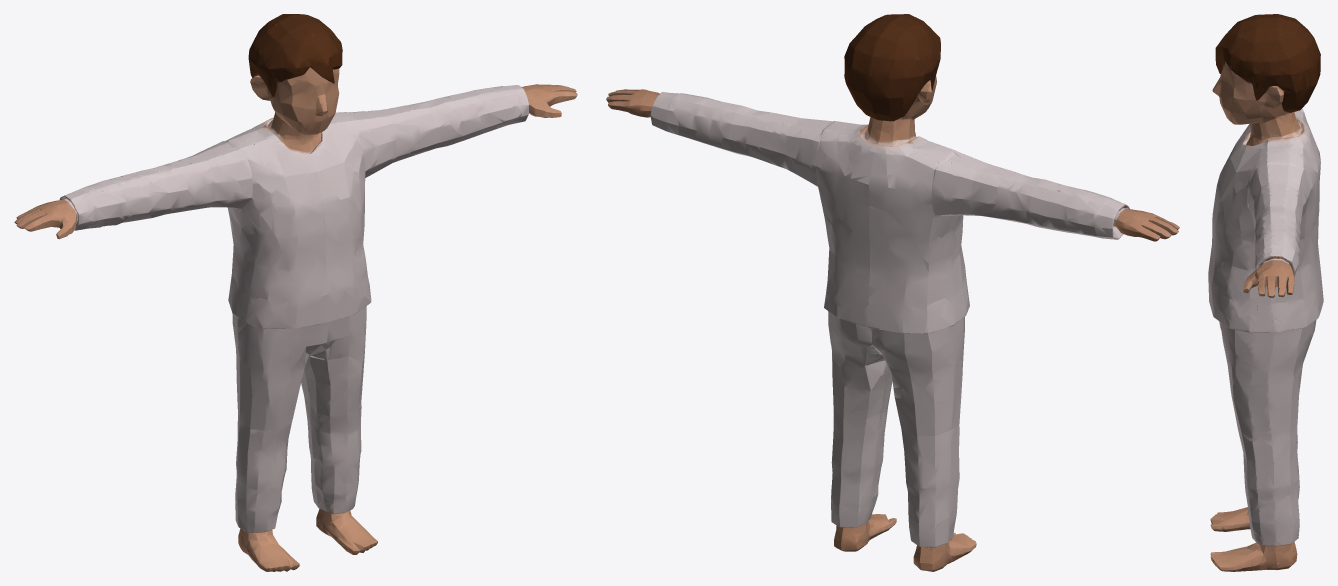
3 views of the same model, side by side, from view 1: azimuth 30°, elevation 25°; view 2: azimuth 150°, elevation 25°; view 3: azimuth 270°, elevation 25° (orthographic).
Visible parts, largest first — view 1: mesh_node; view 2: mesh_node; view 3: mesh_node.
Part boxes in pixels (<box>): mesh_node: <box>14,14,577,571</box>; mesh_node: <box>606,14,1179,571</box>; mesh_node: <box>1208,14,1323,571</box>.
Bounding box in the file's own units: 1.9 × 1.71 × 0.3385.
1 material, 1 textured.
